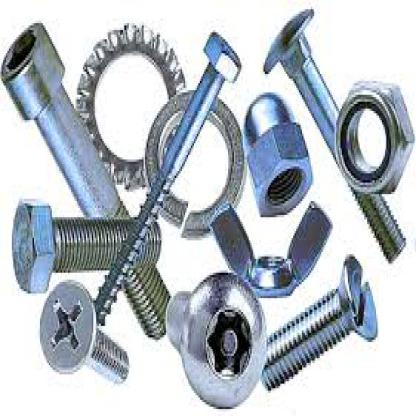METAL: (0, 19, 172, 340), (93, 27, 240, 324), (262, 7, 404, 263), (74, 21, 185, 187), (261, 252, 376, 390), (5, 194, 162, 291), (163, 270, 266, 409), (144, 92, 242, 236), (209, 201, 333, 296), (38, 277, 129, 384), (332, 79, 413, 192), (244, 90, 311, 215)
